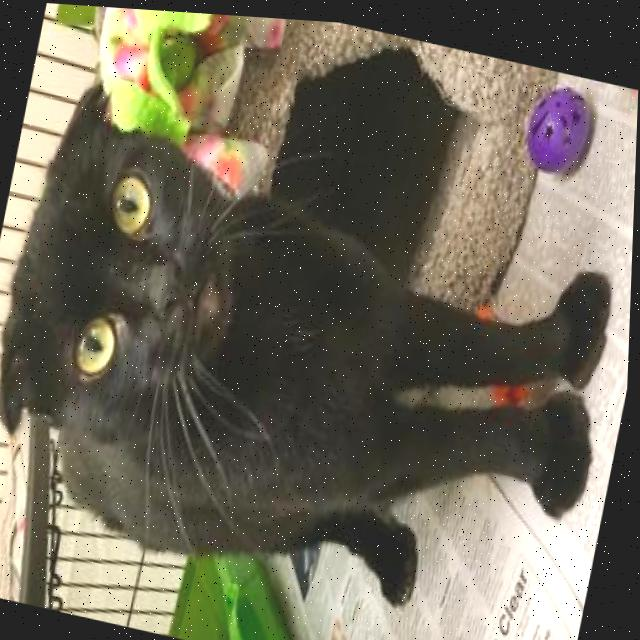Scottish Fold: (0, 61, 638, 640)
